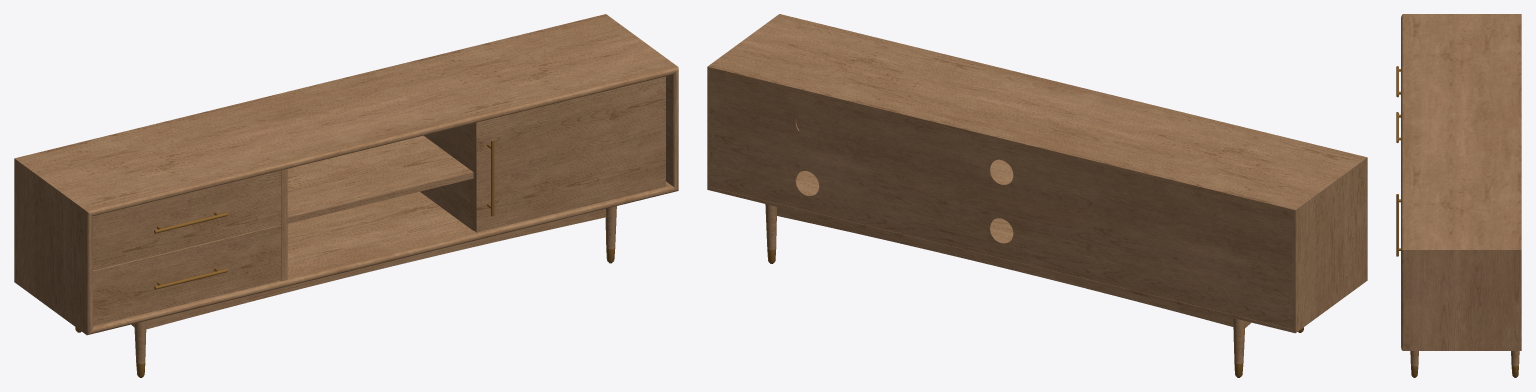
File: chelsea_tvconsole.gltf
3 renders of one model, left to right at view 1: azimuth 30°, elevation 25°; view 2: azimuth 150°, elevation 25°; view 3: azimuth 270°, elevation 25°, orthographic. The views are drawn at different scales.
Parts seen in each view (by area): view 1: Mesh (×2); view 2: Mesh (×2); view 3: Mesh (×2).
Boxes of the visible parts, x1,y1,x2,y2 form: Mesh (×2): [14, 14, 678, 377]; Mesh (×2): [707, 14, 1367, 377]; Mesh (×2): [1396, 14, 1521, 377].
Size of the model in its own units: 2 by 0.6 by 0.45.
Materials: 2 (2 with a texture image).
